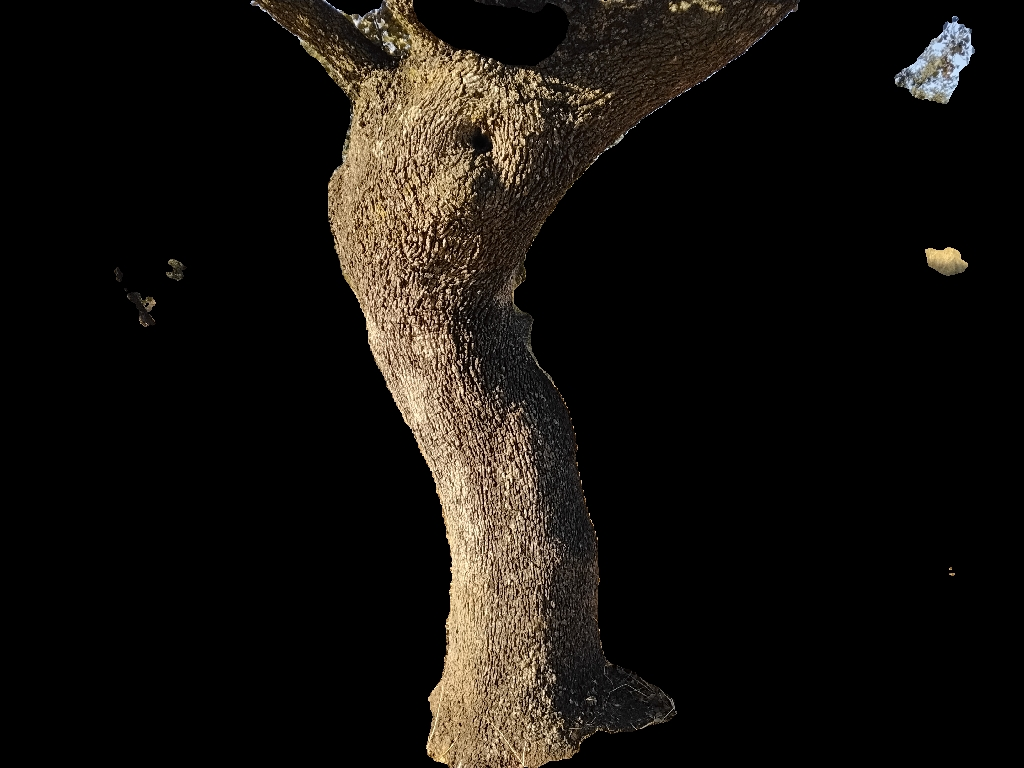Hole: (471, 127, 492, 158)
Injure: (328, 160, 347, 260)
